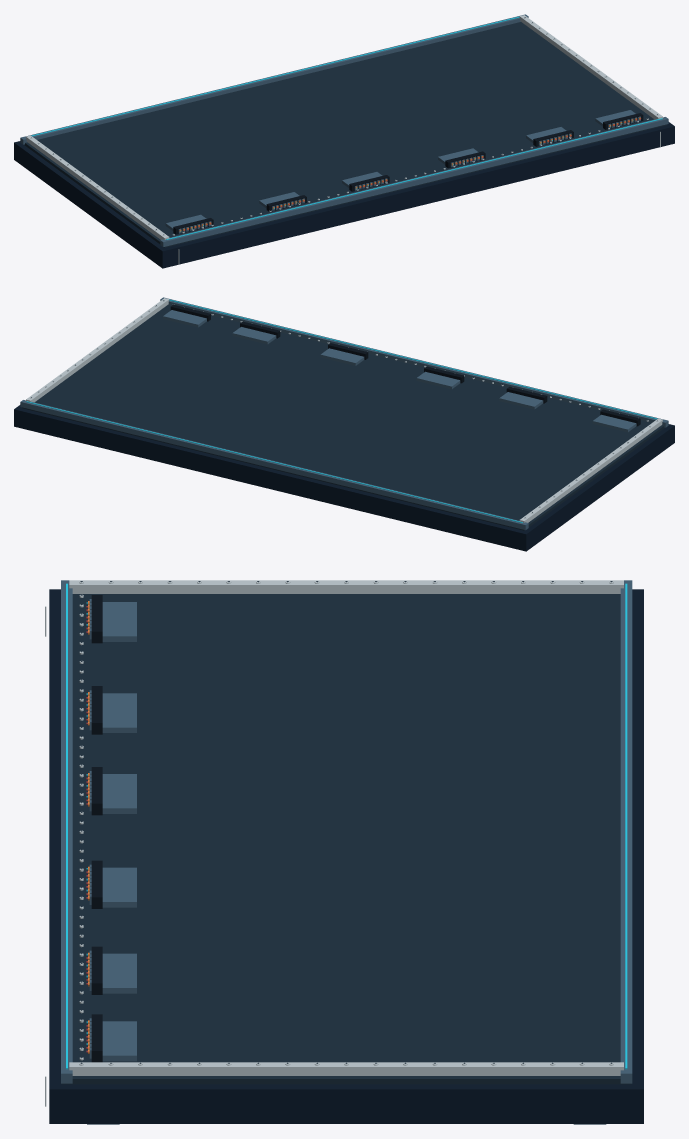
File: 00_L75_IndustrialIonImplantationBase.fbx
The picture shows the model from 3 angles, top to bottom: view 1: azimuth 30°, elevation 25°; view 2: azimuth 150°, elevation 25°; view 3: azimuth 270°, elevation 25°; orthographic projection. The views are drawn at different scales.
Visible parts, largest first — view 1: IndustrialIonImplantationBase; view 2: IndustrialIonImplantationBase; view 3: IndustrialIonImplantationBase.
Part boxes in pixels (x1,y1,x2,y2): IndustrialIonImplantationBase: (14, 14, 674, 268); IndustrialIonImplantationBase: (14, 297, 674, 551); IndustrialIonImplantationBase: (45, 580, 643, 1124).
Size of the model in its own units: 1920 by 115 by 972.
